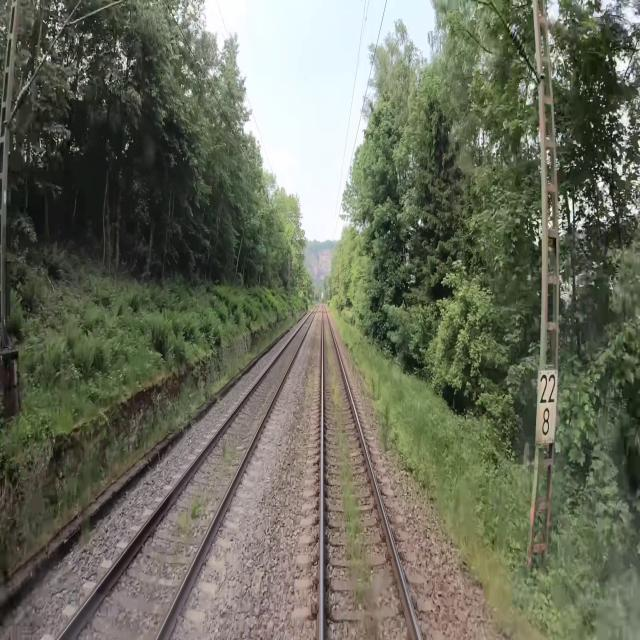Plant: (324, 313, 375, 623), (329, 304, 405, 471), (176, 490, 207, 536), (220, 431, 240, 469), (303, 363, 318, 403)
